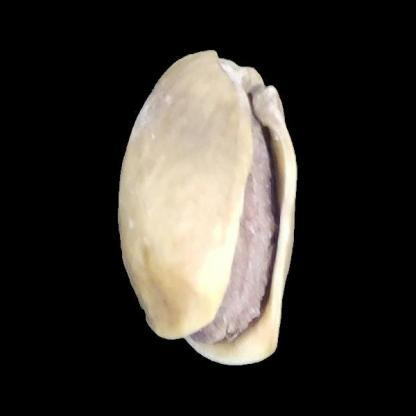pistachio: (118, 47, 289, 359)
